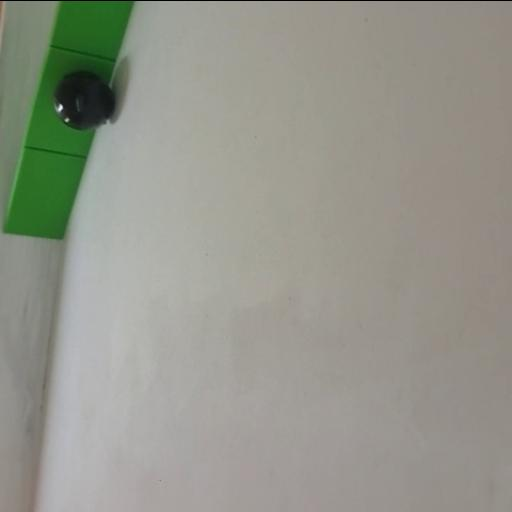dead: (51, 68, 117, 130)
